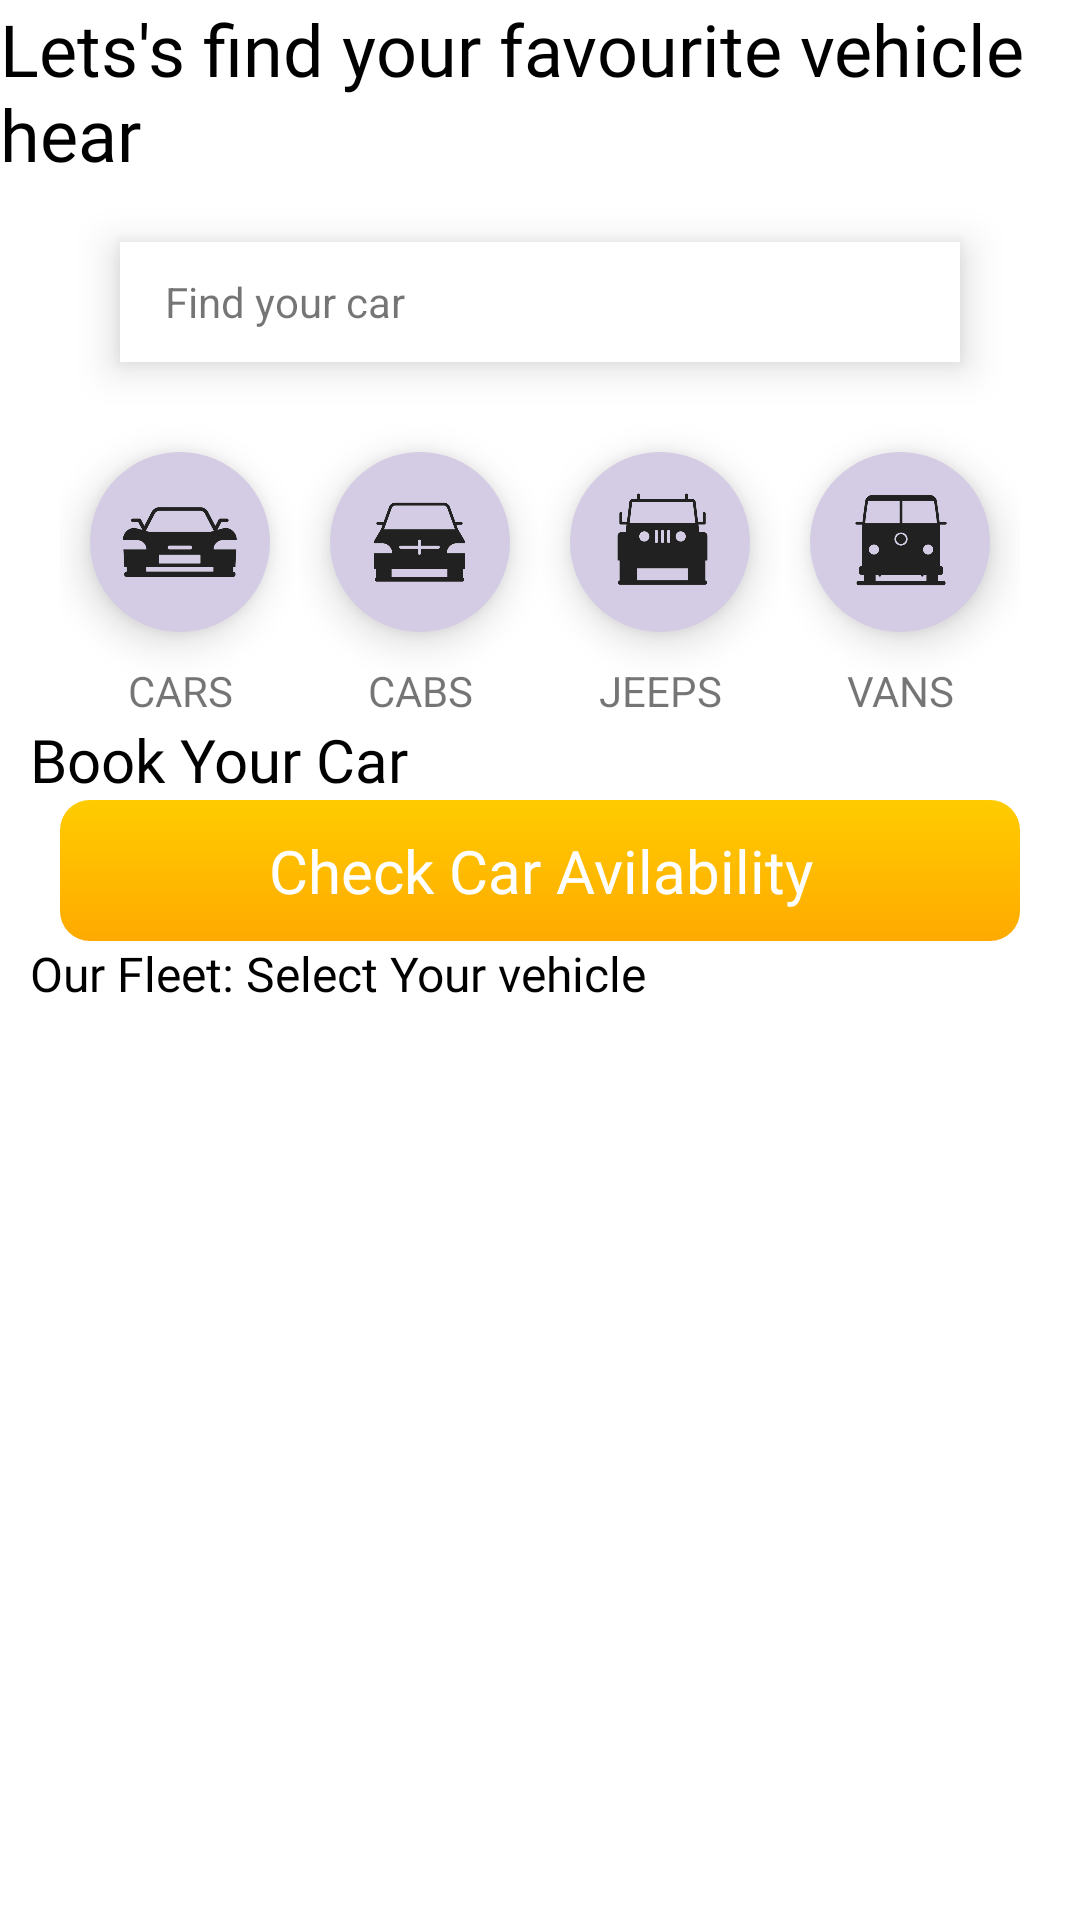

Where to tap for icons on this 1080 x 1920 app screen, as [x,y]:
cab: [419,542]
van: [901,540]
